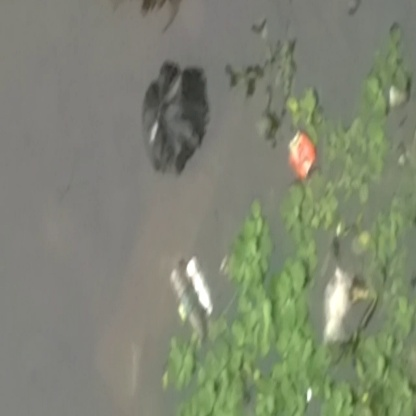plastic-bag: (134, 62, 209, 173)
